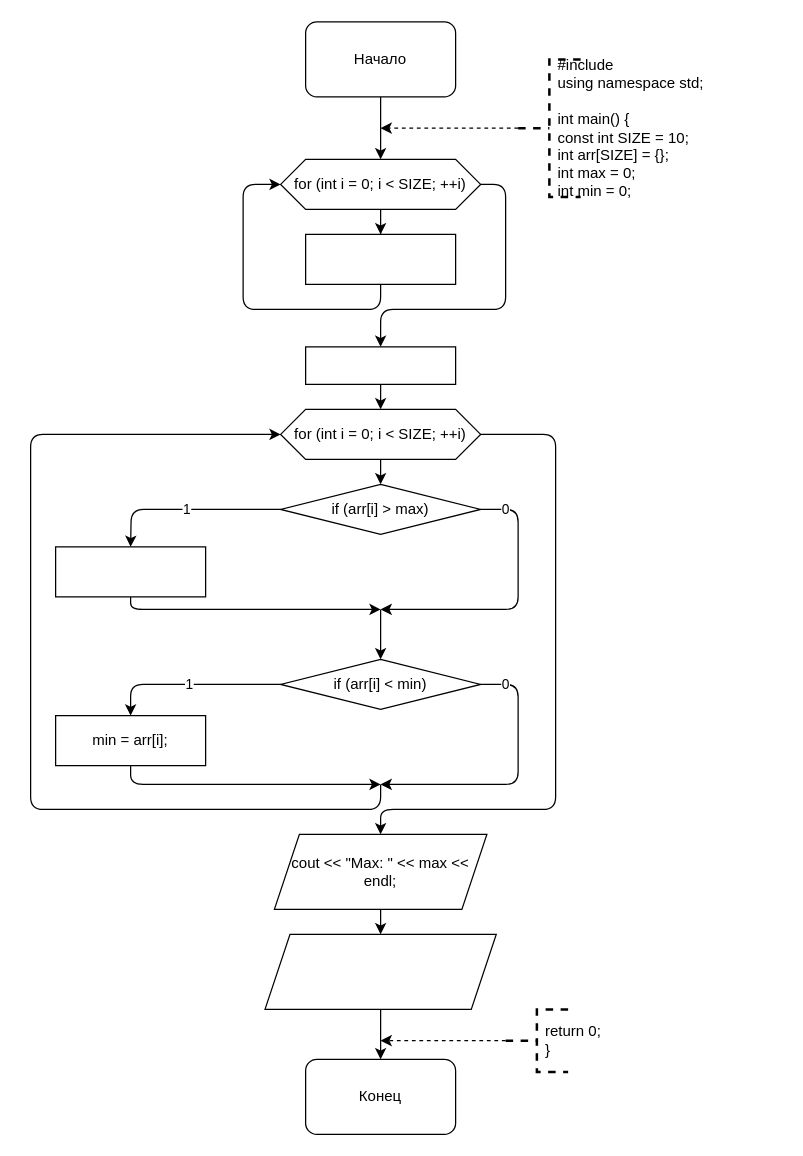
Some shapes in this 803 by 1156 pixel diagram are drawn without their labels. The shapes that lost their labels are listed below. From the top down, each one's centre as x and y in pixels, then its label:
point (380, 258): arr[i] = rand() % 100;
point (380, 365): min = arr[0];
point (130, 571): max = arr[i];
point (380, 971): cout << "Min: " << min << endl;
